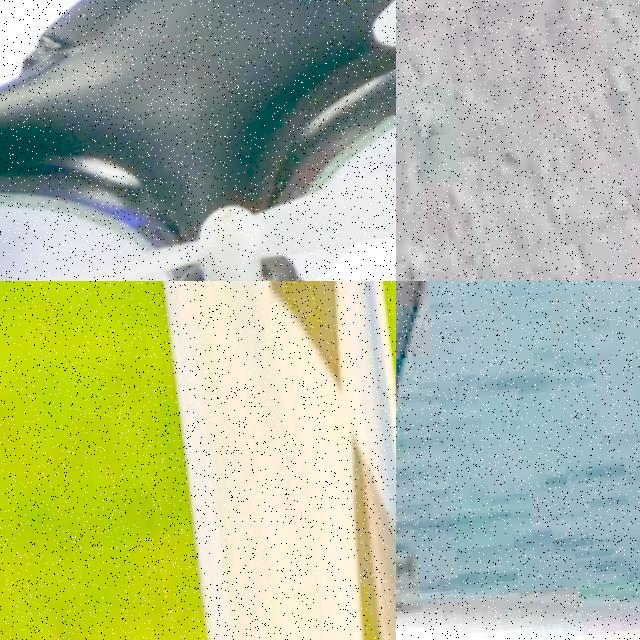drone: (0, 0, 396, 281)
